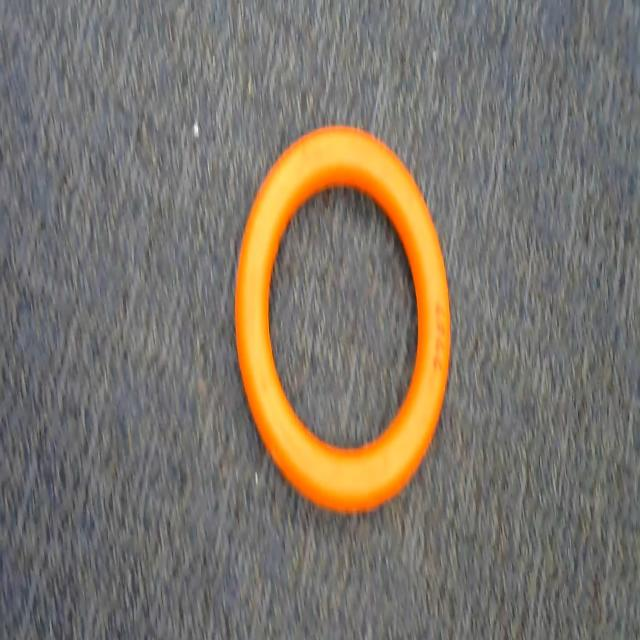note: (212, 81, 477, 558)
